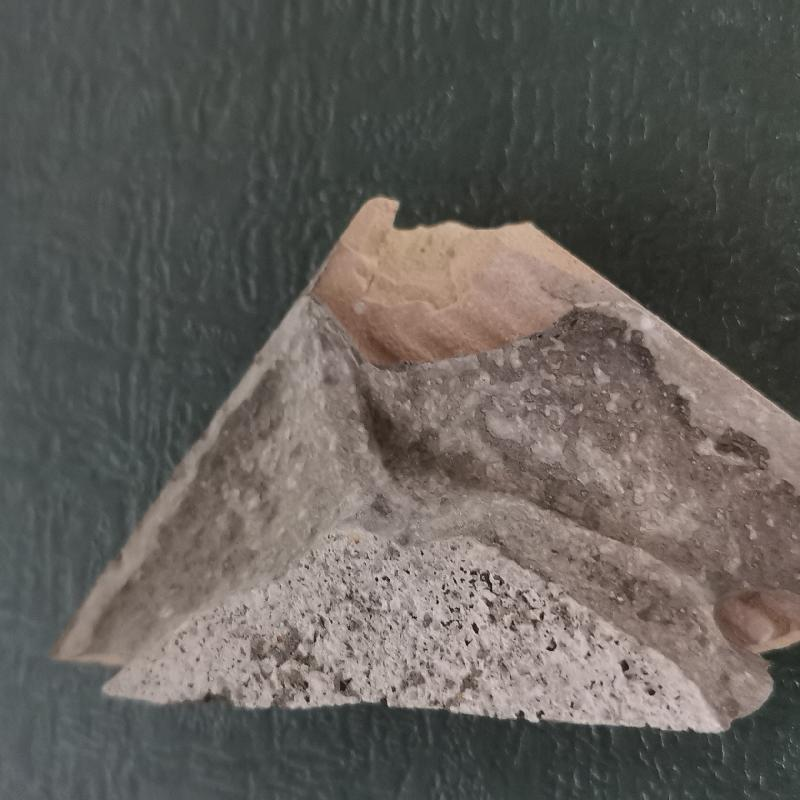tile: (39, 191, 800, 742)
